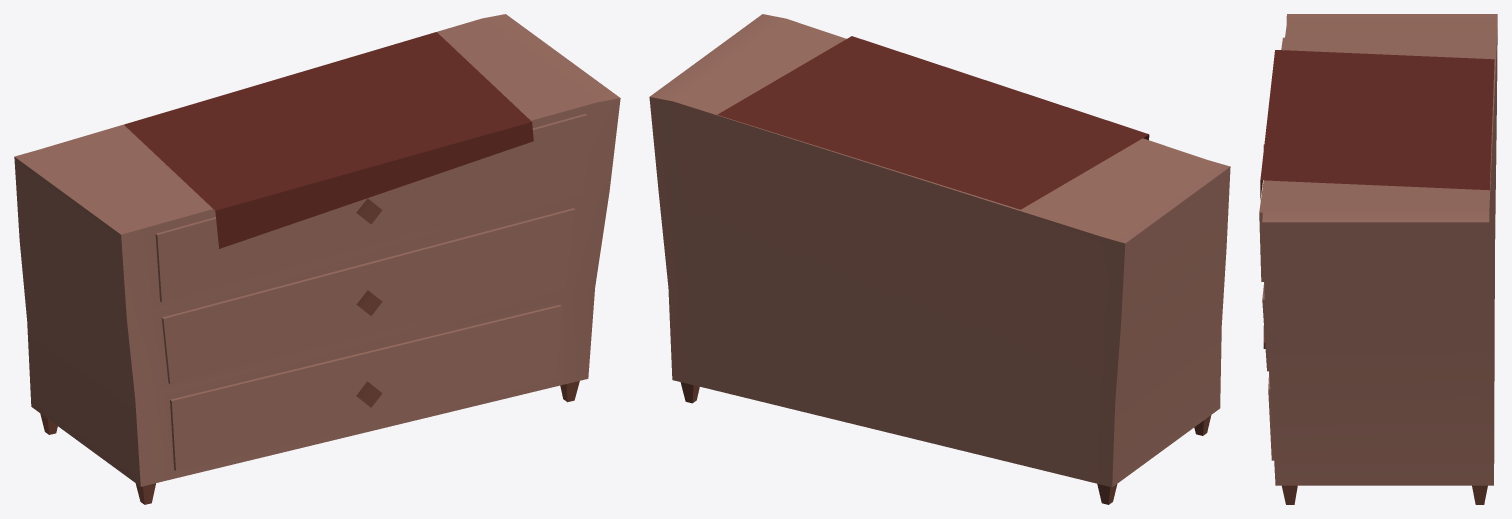
The model's file is GGJ_room_dresser.fbx.
3 views of the same model, side by side, from view 1: azimuth 30°, elevation 25°; view 2: azimuth 150°, elevation 25°; view 3: azimuth 270°, elevation 25° (orthographic).
Parts seen in each view (by area): view 1: dresser, dresser_rug; view 2: dresser, dresser_rug; view 3: dresser, dresser_rug.
Boxes of the visible parts, <box> form: dresser: <box>14,14,620,504</box>; dresser_rug: <box>124,32,533,248</box>; dresser: <box>649,14,1230,504</box>; dresser_rug: <box>717,36,1149,209</box>; dresser: <box>1259,14,1497,504</box>; dresser_rug: <box>1260,50,1494,200</box>.
Size of the model in its own units: 1.53 by 0.9133 by 0.6571.
